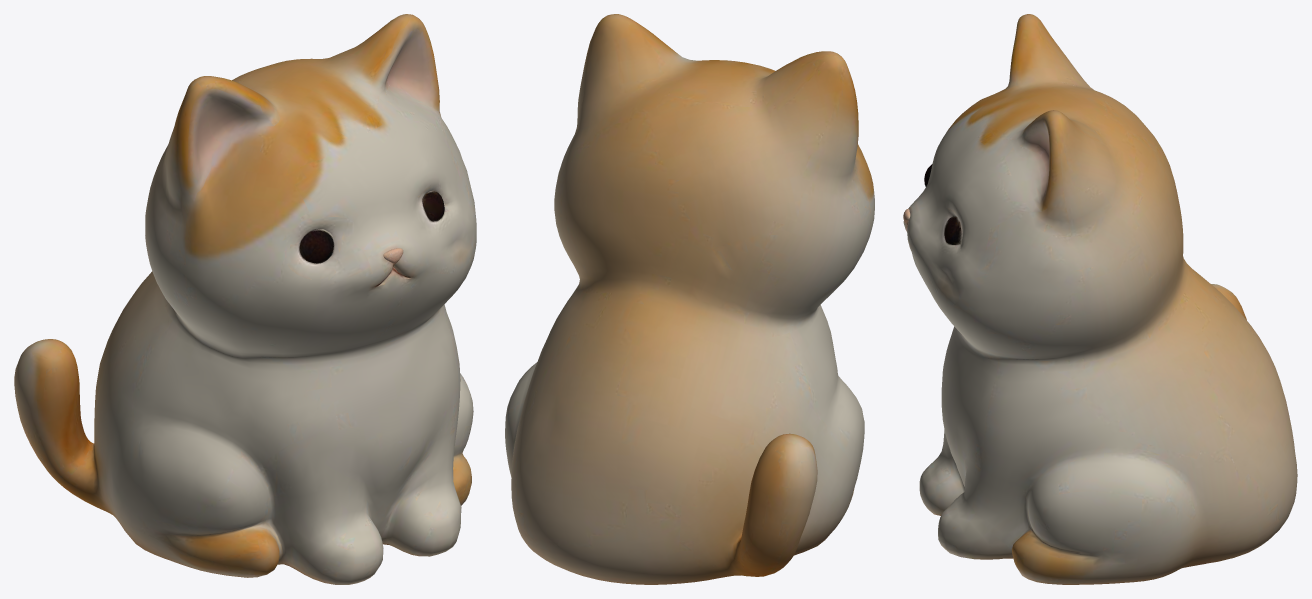
Rendered from cat.glb.
3 renders of one model, left to right at view 1: azimuth 30°, elevation 25°; view 2: azimuth 150°, elevation 25°; view 3: azimuth 270°, elevation 25°, orthographic. The views are drawn at different scales.
Parts seen in each view (by area): view 1: tripo_node_4d64960a-c237-4f0e-94fb-7411054923e1; view 2: tripo_node_4d64960a-c237-4f0e-94fb-7411054923e1; view 3: tripo_node_4d64960a-c237-4f0e-94fb-7411054923e1.
Part boxes in pixels (left/top/right/bottom): tripo_node_4d64960a-c237-4f0e-94fb-7411054923e1: left=14, top=14, right=476, bottom=584; tripo_node_4d64960a-c237-4f0e-94fb-7411054923e1: left=505, top=14, right=874, bottom=584; tripo_node_4d64960a-c237-4f0e-94fb-7411054923e1: left=903, top=14, right=1297, bottom=584.
Size of the model in its own units: 0.7739 by 0.9995 by 0.7759.
Materials: 1 (1 with a texture image).
